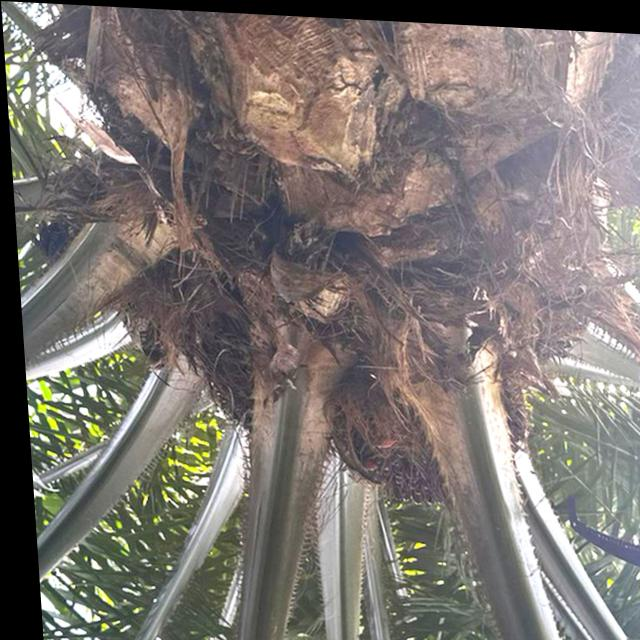ripe: (299, 325, 564, 523)
